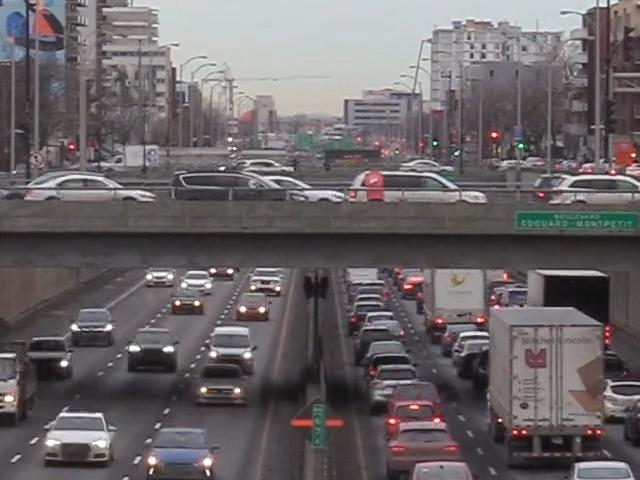car: (39, 410, 117, 471), (383, 421, 462, 480), (7, 173, 162, 203), (143, 423, 224, 480), (345, 172, 473, 206), (380, 378, 444, 430), (365, 360, 421, 409), (237, 174, 331, 202), (204, 324, 257, 372), (24, 331, 77, 377), (125, 327, 179, 372), (194, 362, 245, 408), (360, 339, 412, 382), (69, 307, 118, 347), (437, 314, 484, 355), (405, 459, 488, 480), (455, 338, 492, 385), (558, 459, 640, 480), (602, 376, 640, 421), (358, 311, 404, 348), (349, 291, 388, 328), (493, 285, 529, 313), (238, 158, 293, 176), (169, 289, 206, 315), (233, 297, 271, 322), (180, 272, 215, 299), (601, 349, 628, 378), (625, 395, 640, 446), (255, 273, 287, 296), (399, 274, 426, 298), (144, 268, 177, 287), (209, 264, 239, 280)
truck: (484, 306, 614, 465), (416, 268, 487, 330), (0, 324, 42, 423)
